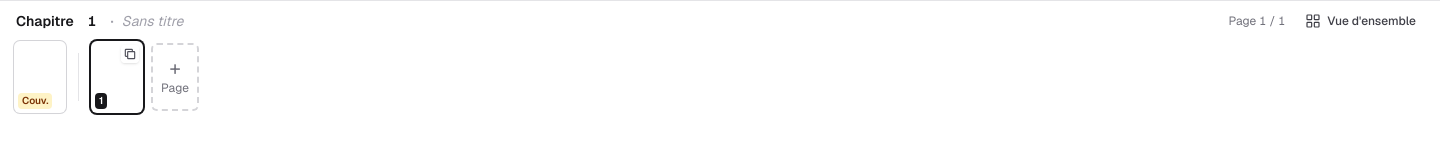
Test: page bar › adds pages and marks the one being edited
Click the button "+ Page": (175, 77) [151,43,199,111]
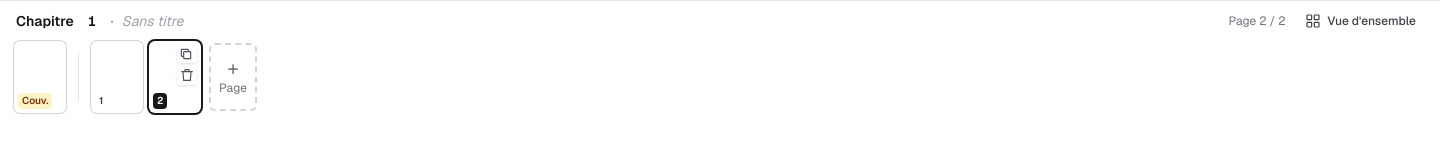
Now the number of buttons "Couv." is 3, box [16,43,64,111]; [93,43,141,111]; [151,43,199,111]
Now the text "Page 2 / 2" is shown, box [1228,13,1285,29]
